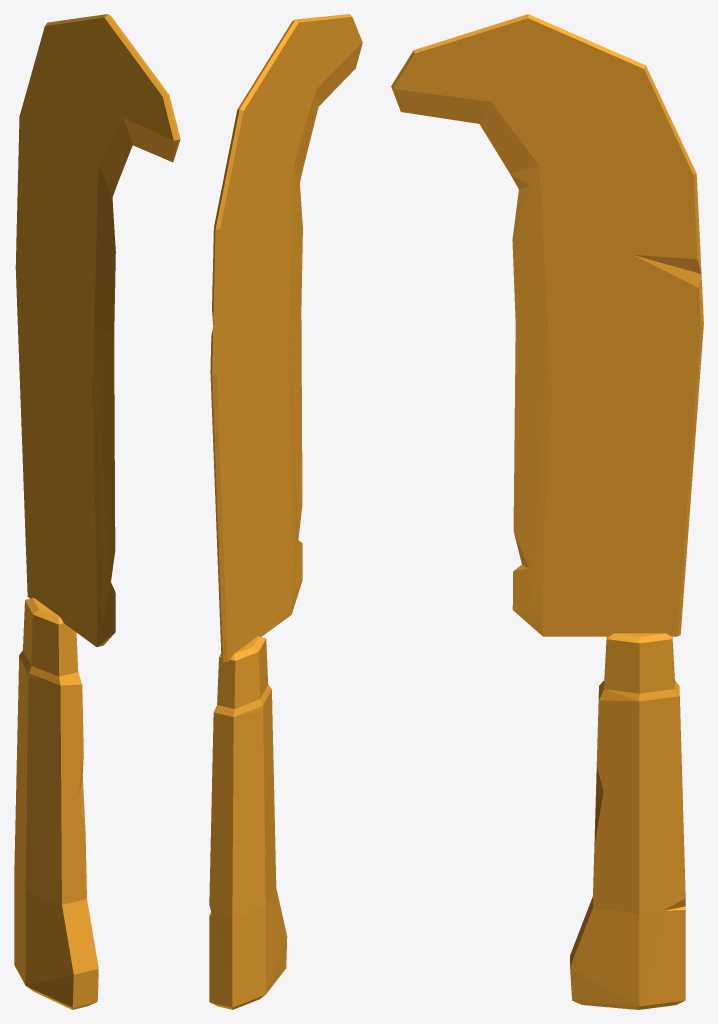
File: SM_Billhook_B.fbx
3 renders of one model, left to right at view 1: azimuth 30°, elevation 25°; view 2: azimuth 150°, elevation 25°; view 3: azimuth 270°, elevation 25°, orthographic. The views are drawn at different scales.
Visible parts, largest first — view 1: billhook-b; view 2: billhook-b; view 3: billhook-b.
Part boxes in pixels (x1,y1,x2,y2): billhook-b: (14, 14, 180, 1009); billhook-b: (209, 14, 362, 1009); billhook-b: (391, 14, 703, 1009).
Bounding box in the file's own units: 0.0279 × 0.5391 × 0.1548.
